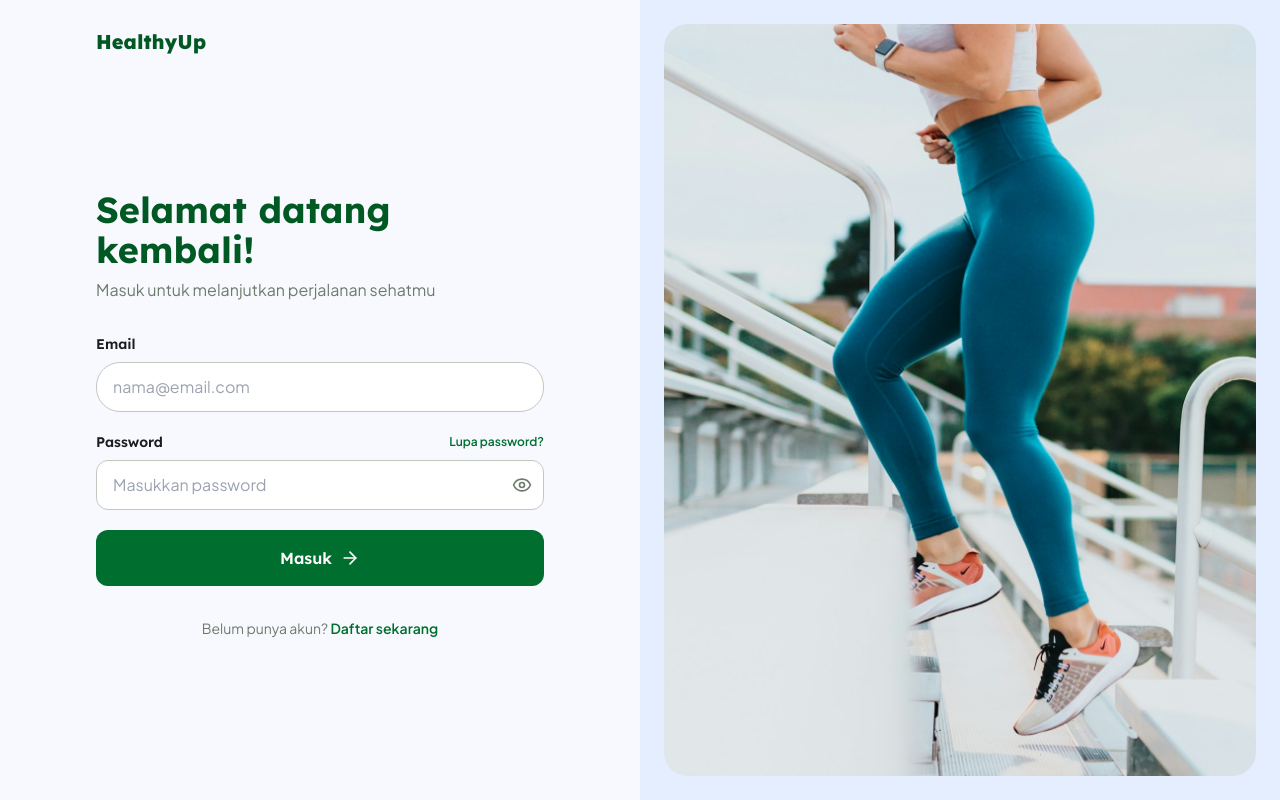
Login Page › menampilkan error format email tidak valid
The width and height of the screenshot is (1280, 800).
In the field labelled "Email": (320,387) [96,362,544,412], type "bukan-email"
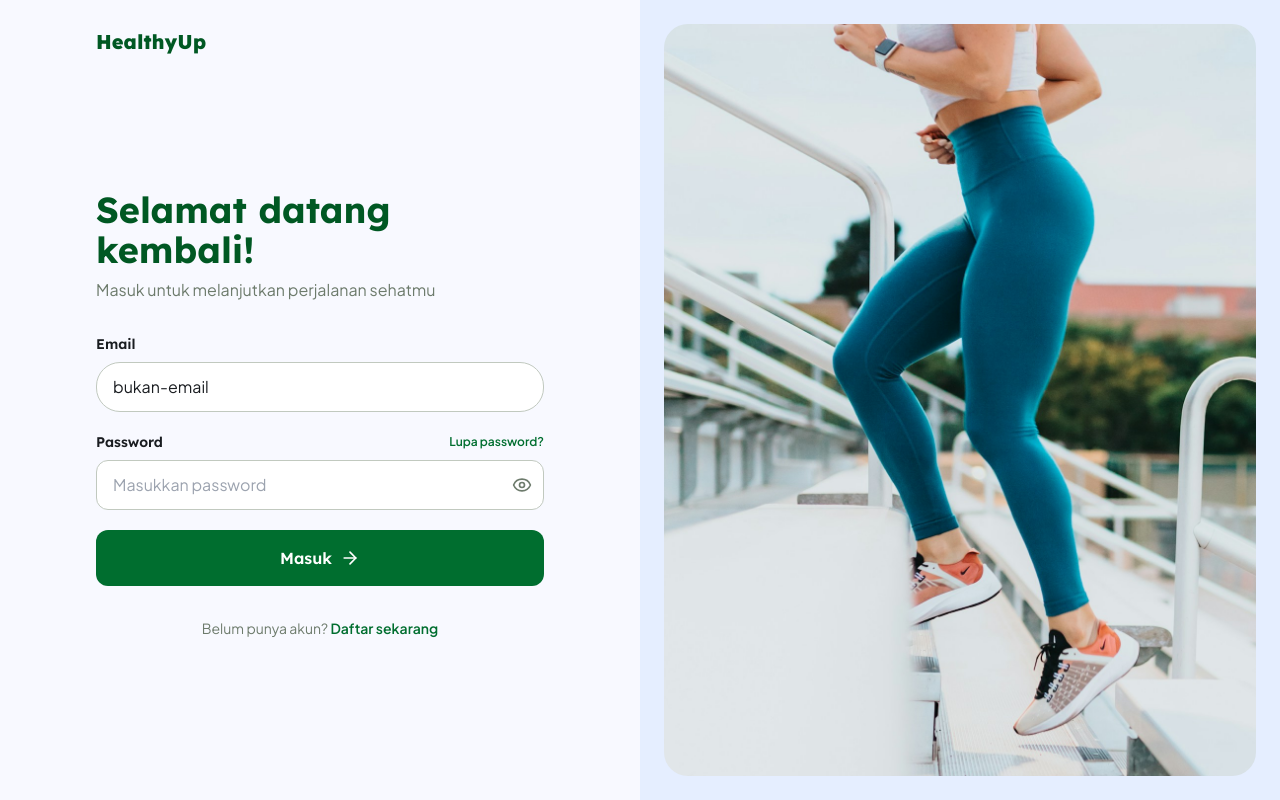
Click the button "Masuk": (320,558) [96,530,544,586]
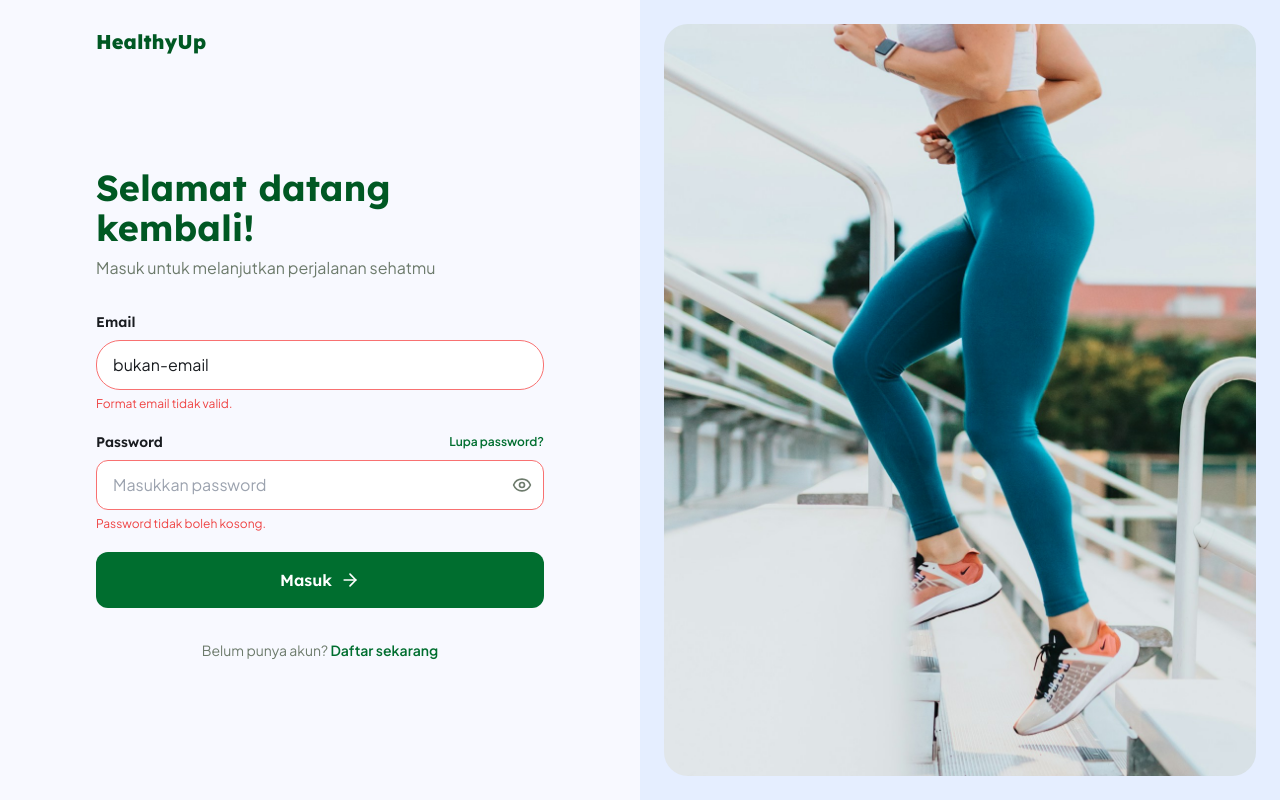
Check: the text "Format email tidak valid." is shown, box [96,396,232,411]
